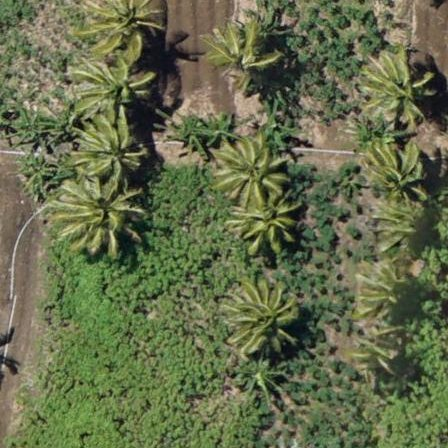palm_tree: (352, 134, 435, 222), (62, 169, 143, 256), (358, 49, 436, 132), (222, 277, 297, 357), (229, 188, 300, 263), (219, 128, 289, 202), (80, 0, 160, 63), (79, 109, 147, 182), (204, 22, 272, 95), (356, 258, 420, 326)
